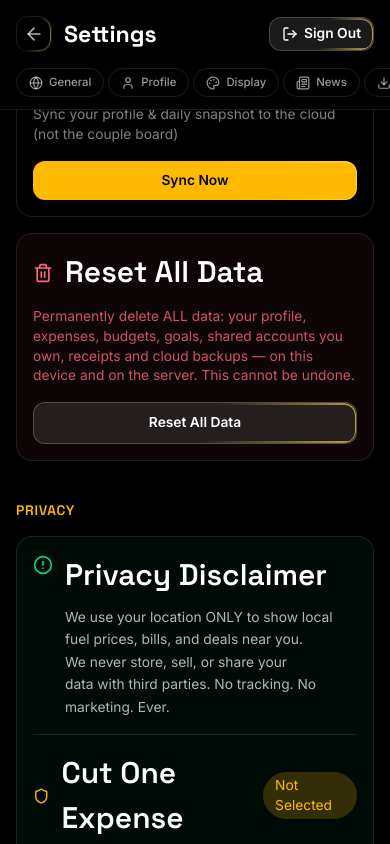
Test: SettingsPage › opens a confirm modal for reset instead of window.confirm
(page scrolled)
Click the button "Reset All Data". click: (195, 423)
box: [33,402,357,444]
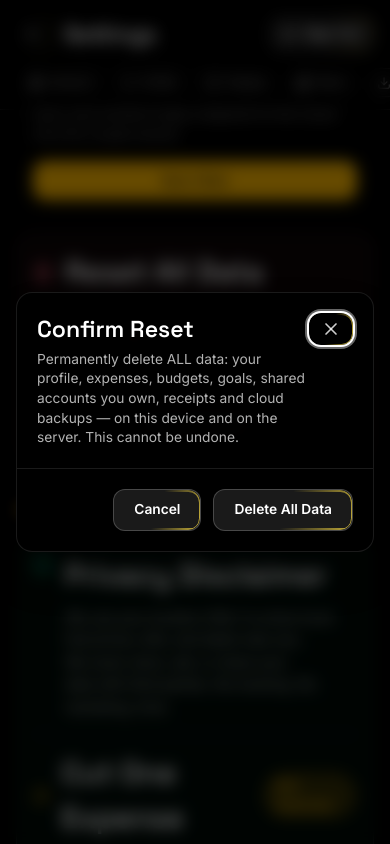
Check: the heading "Confirm Reset" is shown, box [37,314,194,344]
